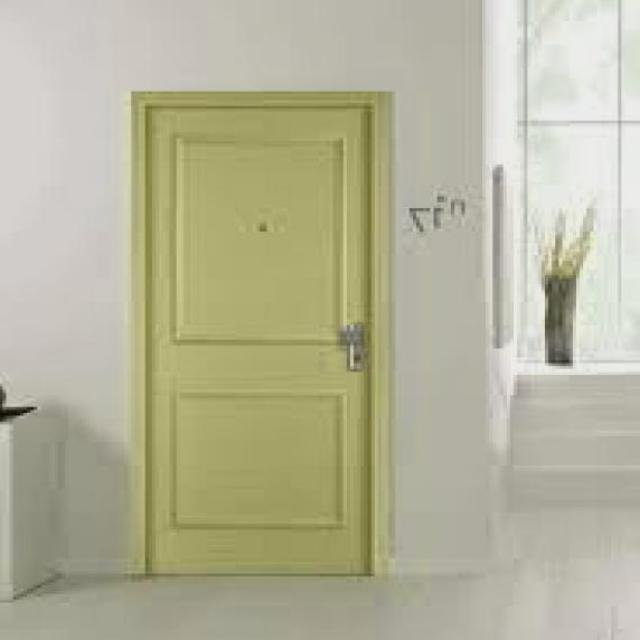door: (138, 92, 380, 576)
